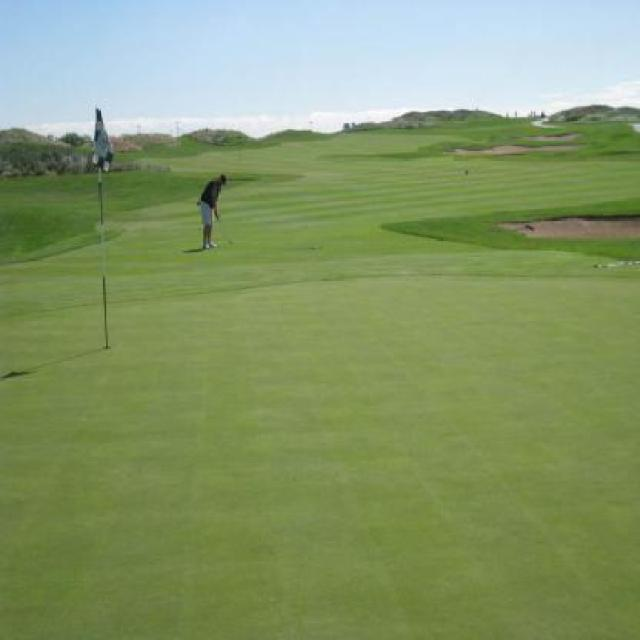Person: (190, 165, 225, 249)
